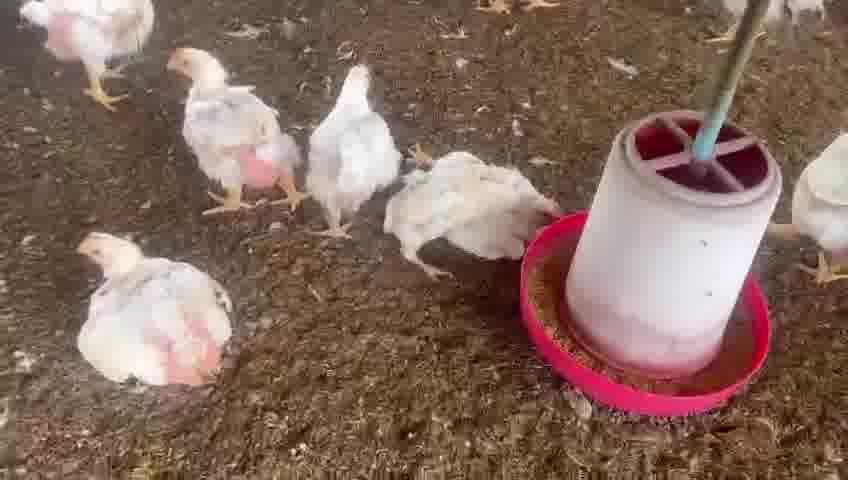AbNormal: (372, 124, 560, 271)
Normal: (65, 224, 236, 404), (165, 43, 304, 211), (293, 56, 386, 253), (21, 0, 173, 112)
